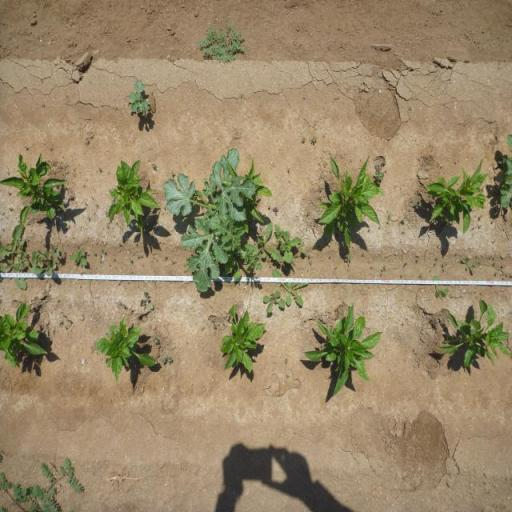plant: (304, 305, 384, 400), (315, 152, 386, 248), (0, 151, 67, 234), (424, 158, 490, 238), (437, 297, 512, 367), (92, 314, 159, 383), (106, 157, 160, 238), (0, 300, 50, 370), (220, 302, 266, 376)
weed: (160, 147, 263, 299), (0, 449, 86, 511), (196, 17, 248, 65), (0, 222, 28, 294), (270, 267, 311, 307), (273, 221, 301, 265), (497, 130, 512, 212), (255, 218, 282, 263), (0, 239, 32, 274), (126, 77, 152, 116), (30, 247, 57, 281), (262, 289, 286, 313), (433, 275, 450, 299), (70, 247, 88, 267), (140, 290, 156, 311), (461, 257, 478, 275), (45, 244, 61, 258), (374, 170, 386, 183), (344, 252, 353, 267), (300, 240, 308, 256), (386, 212, 392, 224), (167, 355, 174, 365), (161, 356, 168, 366), (414, 201, 420, 209), (154, 336, 160, 344), (104, 331, 110, 339), (311, 135, 317, 143), (80, 270, 88, 276), (151, 164, 158, 170), (402, 216, 408, 222), (62, 250, 66, 259), (442, 262, 447, 269), (130, 256, 134, 264), (294, 252, 299, 258), (382, 158, 386, 164), (302, 136, 306, 142), (101, 248, 105, 254), (285, 358, 288, 365), (214, 323, 216, 330), (164, 256, 167, 260), (310, 260, 312, 265), (86, 138, 88, 142)
